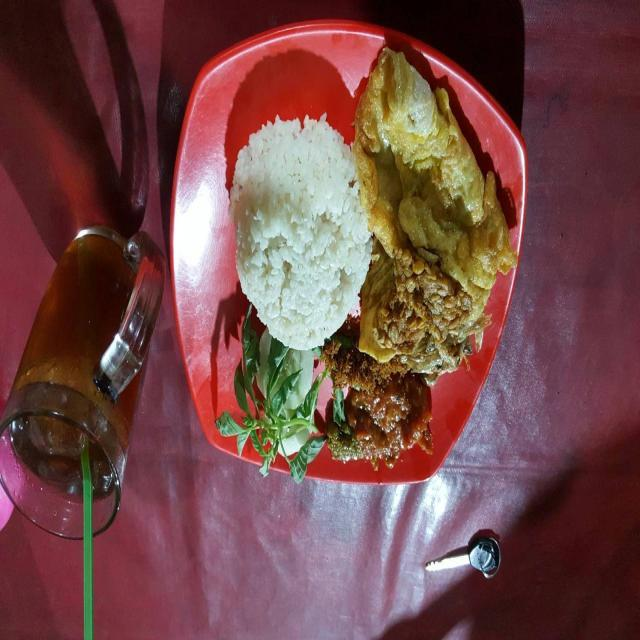nasi_putih: (229, 108, 357, 347)
telur_ayam_dadar: (362, 33, 507, 364)
